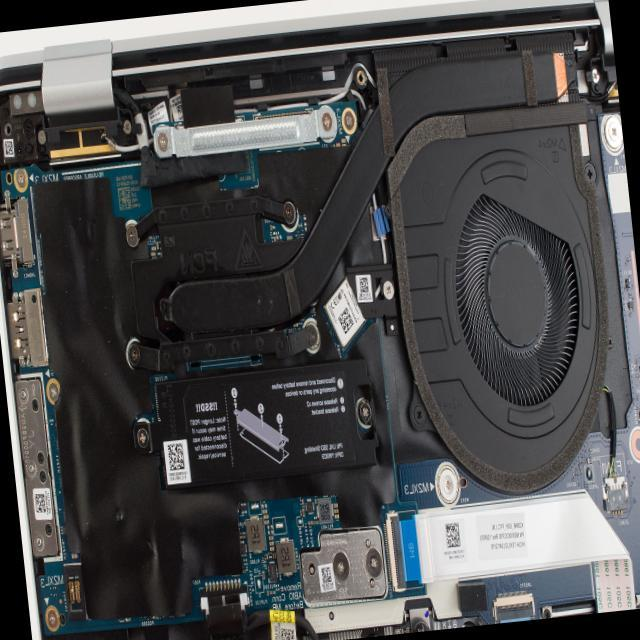Battery: (156, 358, 376, 487)
